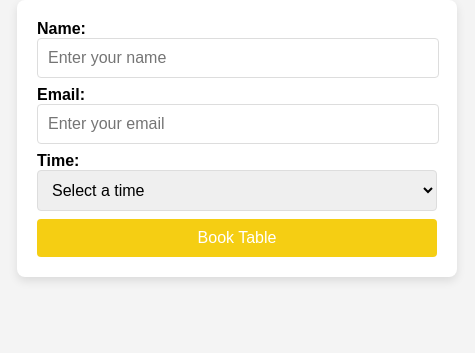
Test: BookingForm › validates form fields
The image size is (475, 353).
What coordinates should you click on to do the following:
click the button "Book Table"
I would click on:
 (237, 238)
Its box is [37, 219, 437, 257].
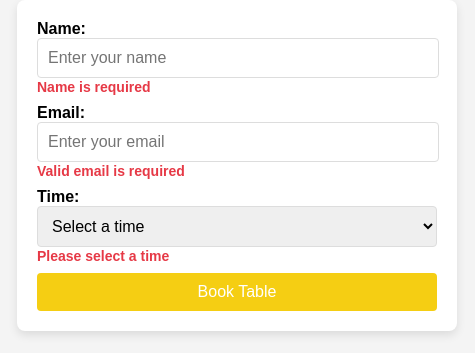
Result: the text "Name is required" is shown at [37, 79, 151, 95]
Result: the text "Valid email is required" is shown at [37, 163, 185, 179]
Result: the text "Please select a time" is shown at [37, 248, 169, 264]
